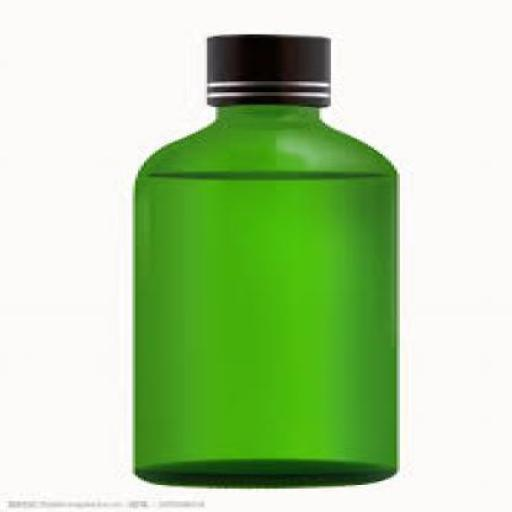glass: (127, 104, 400, 488)
plastic: (198, 33, 331, 105)
